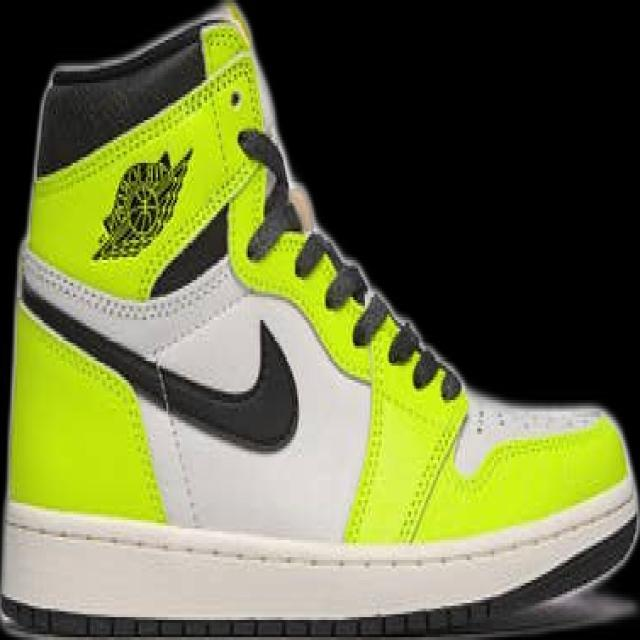J1_InsoleChar: (2, 3, 636, 633)
J1_ShoeLogo: (89, 145, 194, 262)
J1_StitchPattern: (199, 15, 470, 543), (232, 126, 464, 405), (18, 244, 301, 450), (4, 494, 636, 577), (293, 226, 462, 402), (19, 247, 243, 327), (394, 407, 469, 545), (148, 356, 204, 528), (234, 126, 303, 261), (467, 401, 607, 439)
